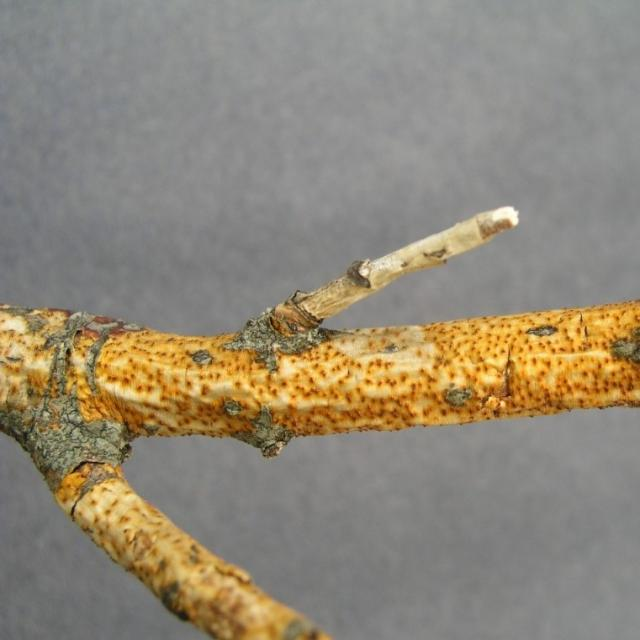Golden_canker: (0, 261, 640, 638)
